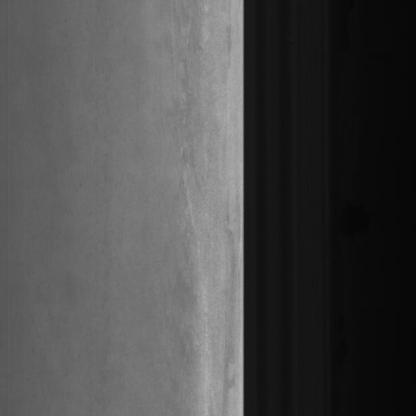silk_spot: (159, 43, 219, 214)
